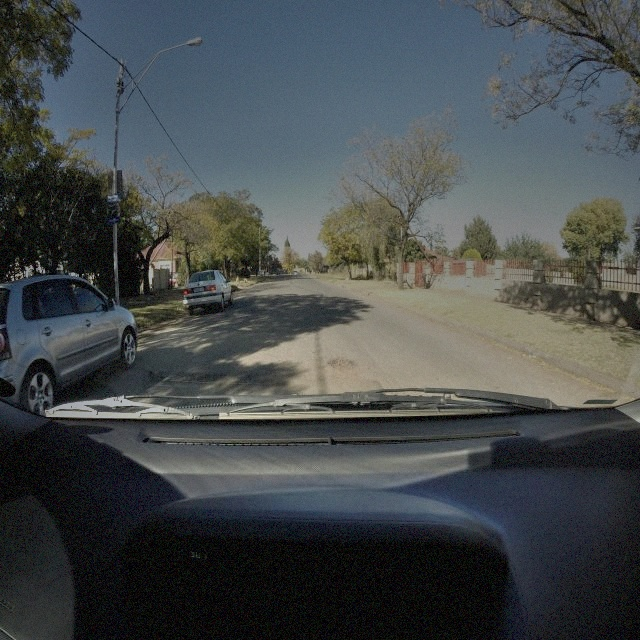pothole: (328, 356, 354, 372)
